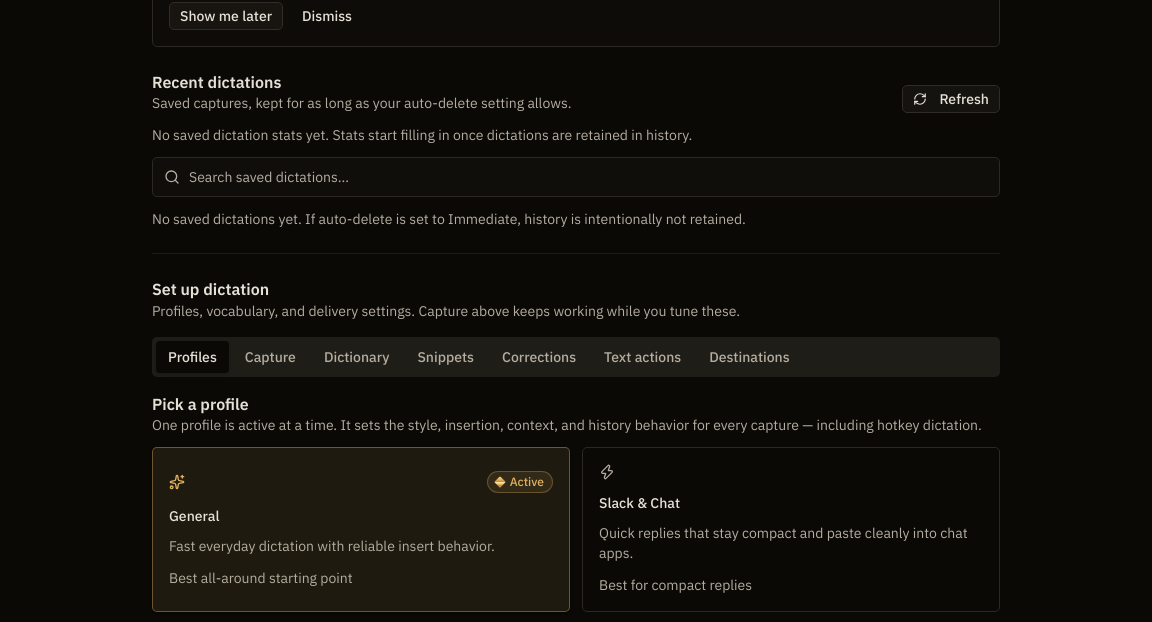
Test: DictationView modes › says which model keep warm frees and which it does not
This screenshot has width=1152, height=622.
(page scrolled)
Press the mouse on the tab "Capture" at {"x": 270, "y": 357}, box [233,341,308,373]
(page scrolled)
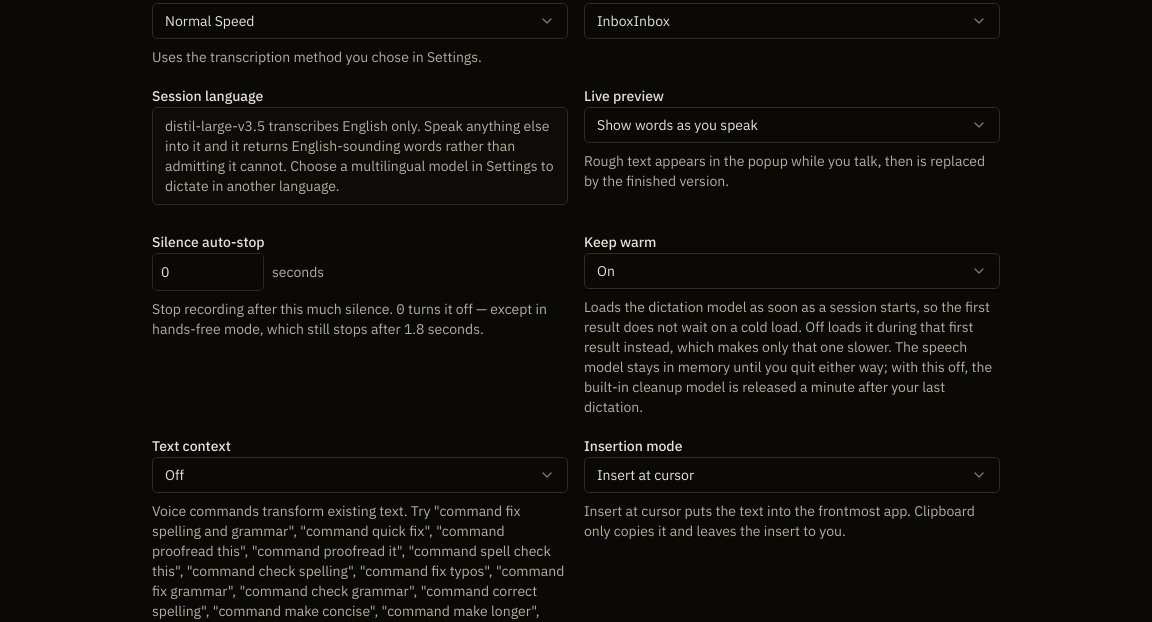
Now the text "stays in memory until you quit" shows "speech model stays in memory", box [584,298,992,416]
Now the text "stays in memory until you quit" shows "built-in cleanup model is released a minute after your last dictation", box [584,298,992,416]
